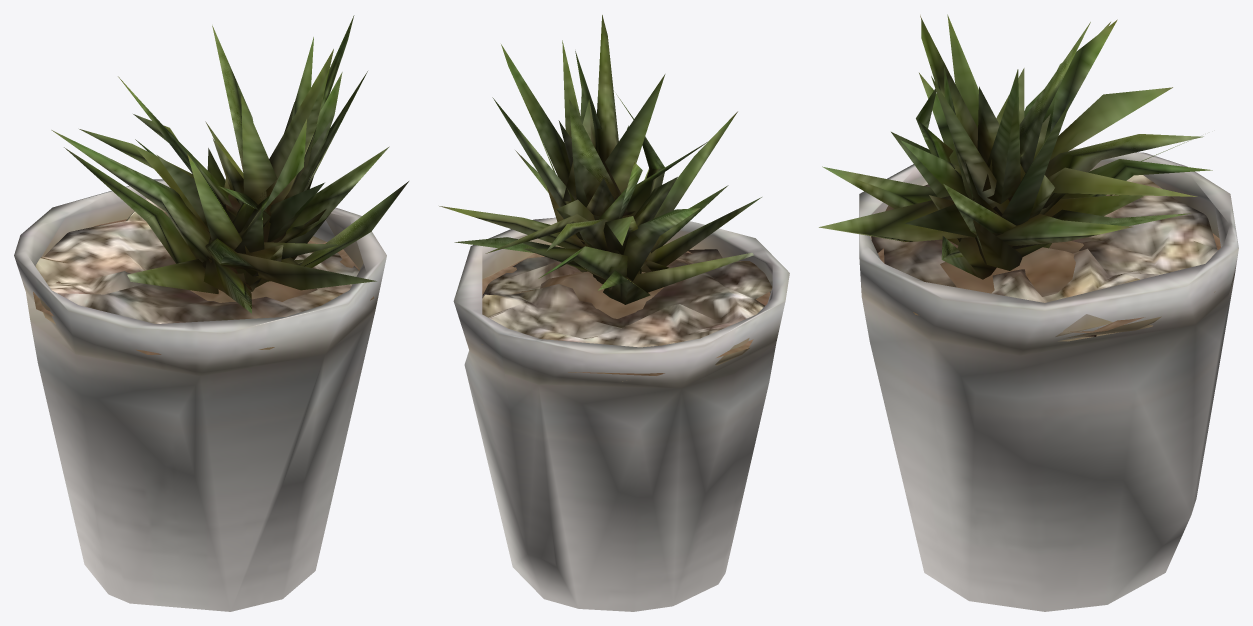
Rendered from potted_plant_04.glb.
The picture shows the model from 3 angles, left to right: view 1: azimuth 30°, elevation 25°; view 2: azimuth 150°, elevation 25°; view 3: azimuth 270°, elevation 25°; orthographic projection. The views are drawn at different scales.
Visible parts, largest first — view 1: potted_plant_04_pot, potted_plant_04_plant, potted_plant_04_ground, potted_plant_04_dirt; view 2: potted_plant_04_pot, potted_plant_04_plant, potted_plant_04_ground, potted_plant_04_dirt; view 3: potted_plant_04_pot, potted_plant_04_plant, potted_plant_04_ground, potted_plant_04_dirt.
Boxes of the visible parts, bbox=[...] form: potted_plant_04_pot: bbox=[14, 179, 386, 611]; potted_plant_04_plant: bbox=[51, 15, 408, 313]; potted_plant_04_ground: bbox=[35, 198, 359, 323]; potted_plant_04_dirt: bbox=[33, 212, 374, 354]; potted_plant_04_pot: bbox=[453, 217, 789, 611]; potted_plant_04_plant: bbox=[439, 15, 761, 304]; potted_plant_04_ground: bbox=[482, 249, 772, 347]; potted_plant_04_dirt: bbox=[482, 251, 770, 375]; potted_plant_04_pot: bbox=[859, 148, 1238, 611]; potted_plant_04_plant: bbox=[819, 14, 1212, 279]; potted_plant_04_ground: bbox=[871, 175, 1218, 336]; potted_plant_04_dirt: bbox=[878, 233, 1220, 332].
Size of the model in its own units: 0.1643 by 0.2671 by 0.175.
Materials: 1 (1 with a texture image).
